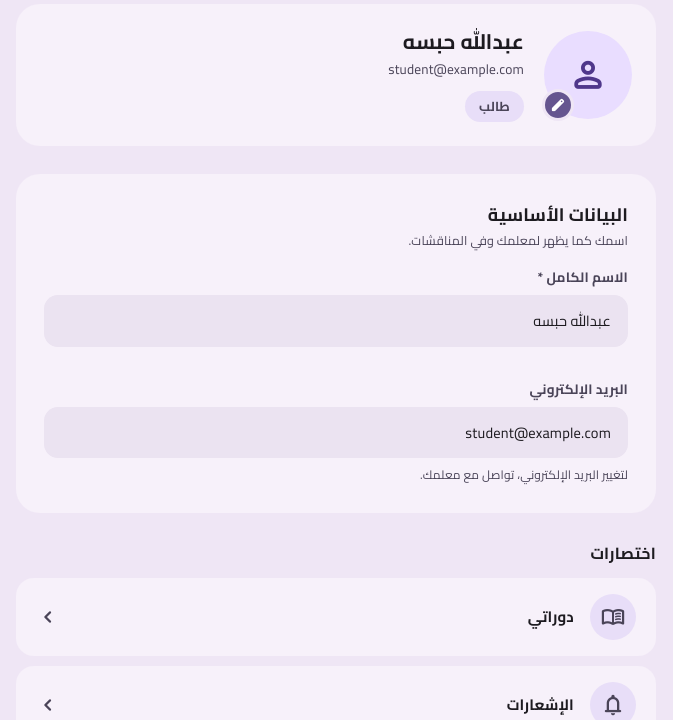
it: StudentProfilePage › only shows the save/discard actions once the name field is actually changed
This screenshot has width=673, height=720.
Expected: the button "حفظ التغييرات" is not shown
Step 1. Type " إضافة" into the field labelled "الاسم الكامل *" → (336, 321), box [44, 296, 628, 347]
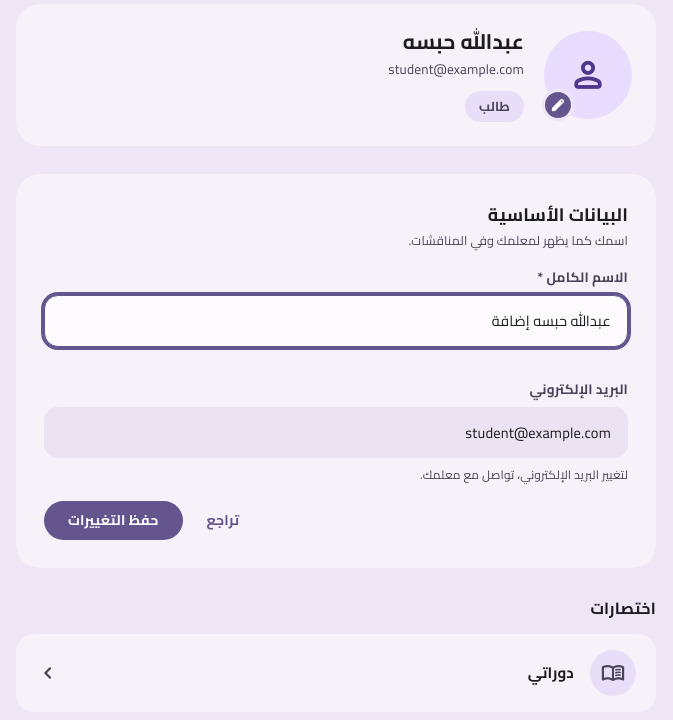
Expected: the button "حفظ التغييرات" is shown, [44, 501, 182, 540]
